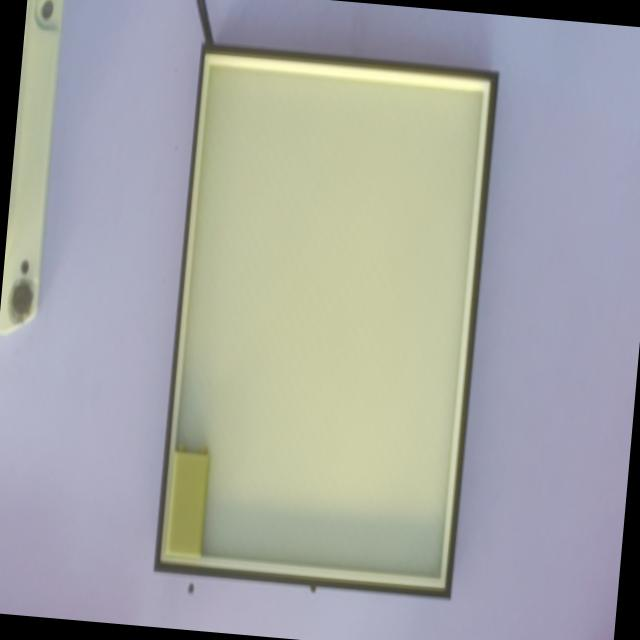bateria: (164, 442, 210, 557)
mesa: (153, 44, 499, 598)
